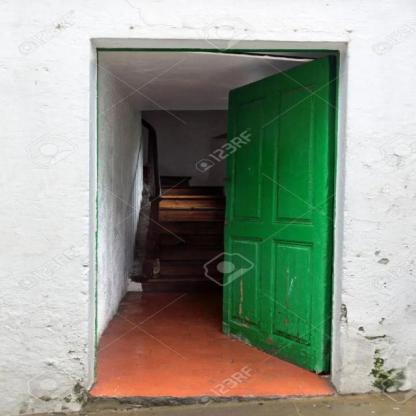door: (88, 34, 342, 399)
